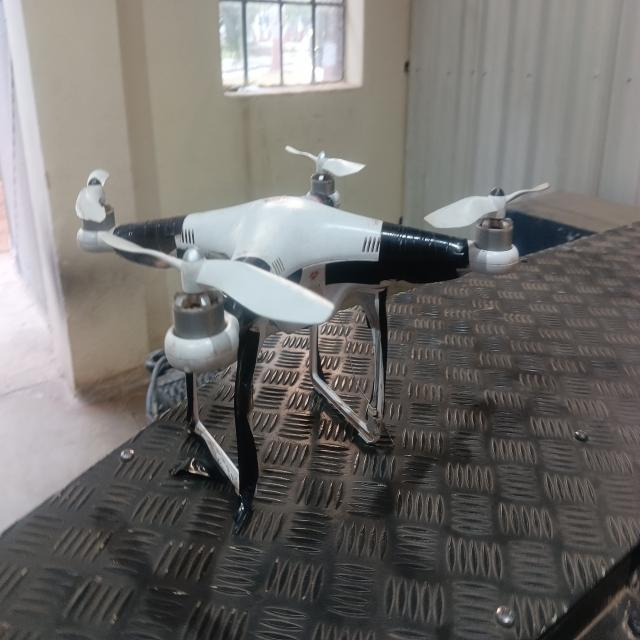drone: (47, 127, 558, 524)
